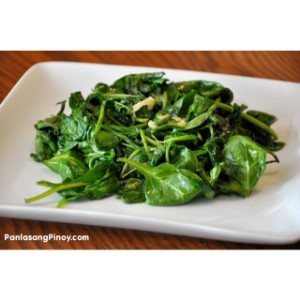spinach_brain food: (42, 71, 278, 203)
